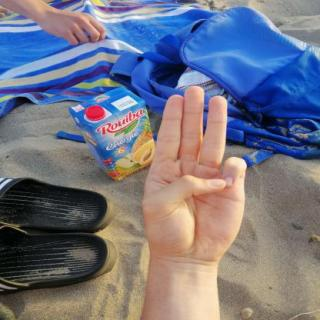THA: (126, 78, 260, 272)
